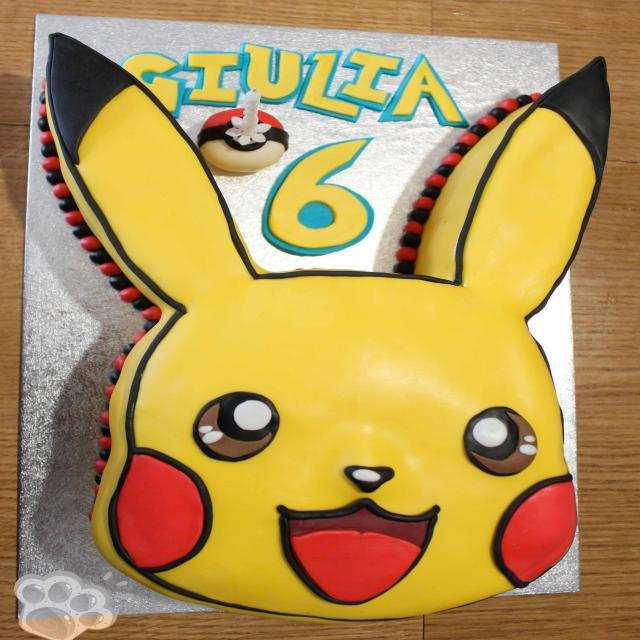pikachu: (48, 53, 610, 621)
